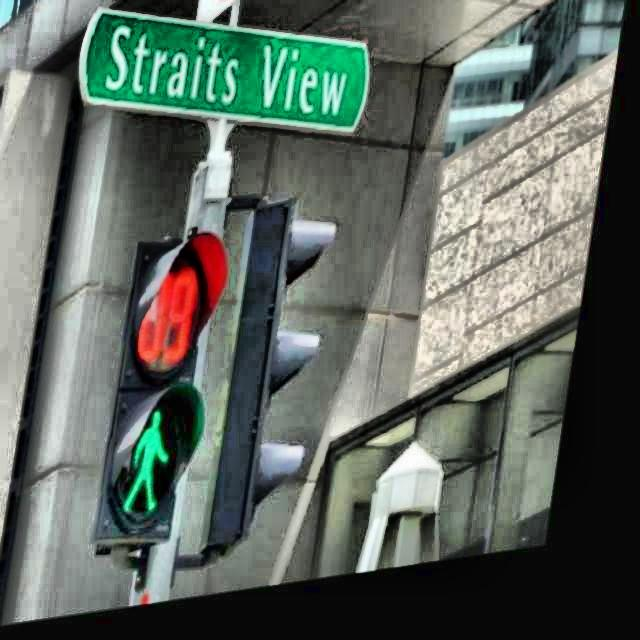semaforo pedestre: (0, 190, 343, 600)
